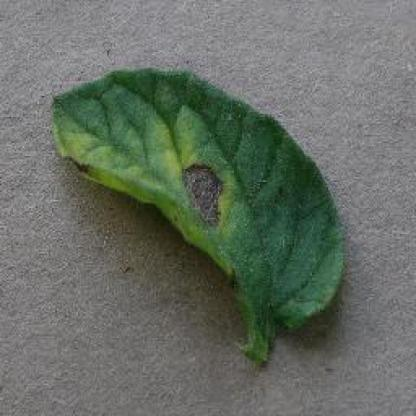Tomato_Blight: (53, 69, 339, 323)
